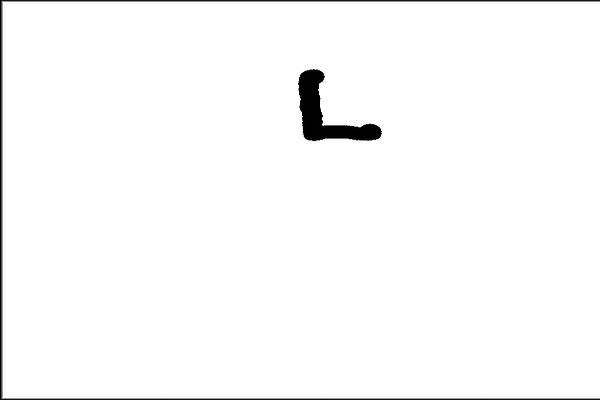L: (291, 64, 393, 152)
